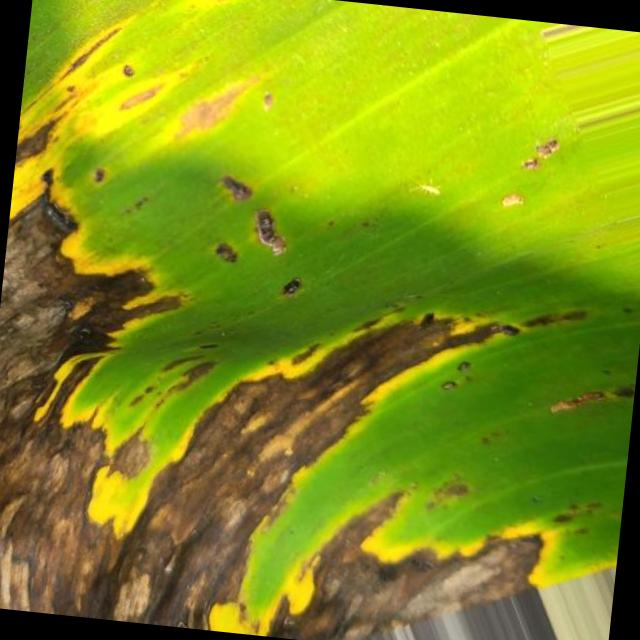Banana_Black_Sigatoka: (0, 212, 523, 640)
